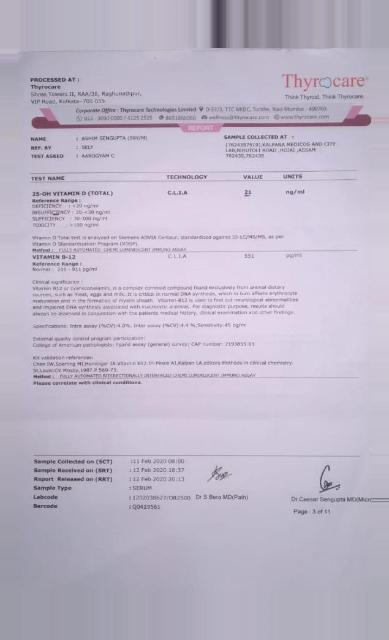Clinical_Conditions: (29, 284, 316, 320)
Name: (80, 134, 150, 141)
Ref_By: (80, 143, 96, 150)
Technology: (164, 188, 194, 199), (167, 253, 189, 262)
Test_Asked: (81, 152, 116, 160)
Test_Name: (32, 187, 117, 231), (32, 253, 101, 279)
Unit: (285, 187, 309, 201), (285, 252, 305, 261)
Value: (242, 251, 259, 262), (245, 187, 254, 198)
